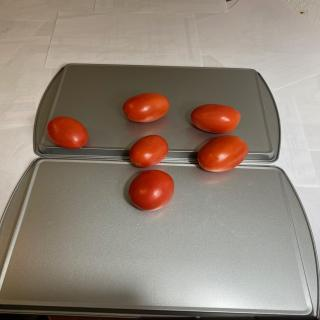Tomato: (128, 169, 174, 211), (197, 135, 249, 172), (191, 104, 241, 134), (122, 92, 170, 122), (46, 116, 88, 150), (129, 134, 169, 168)
